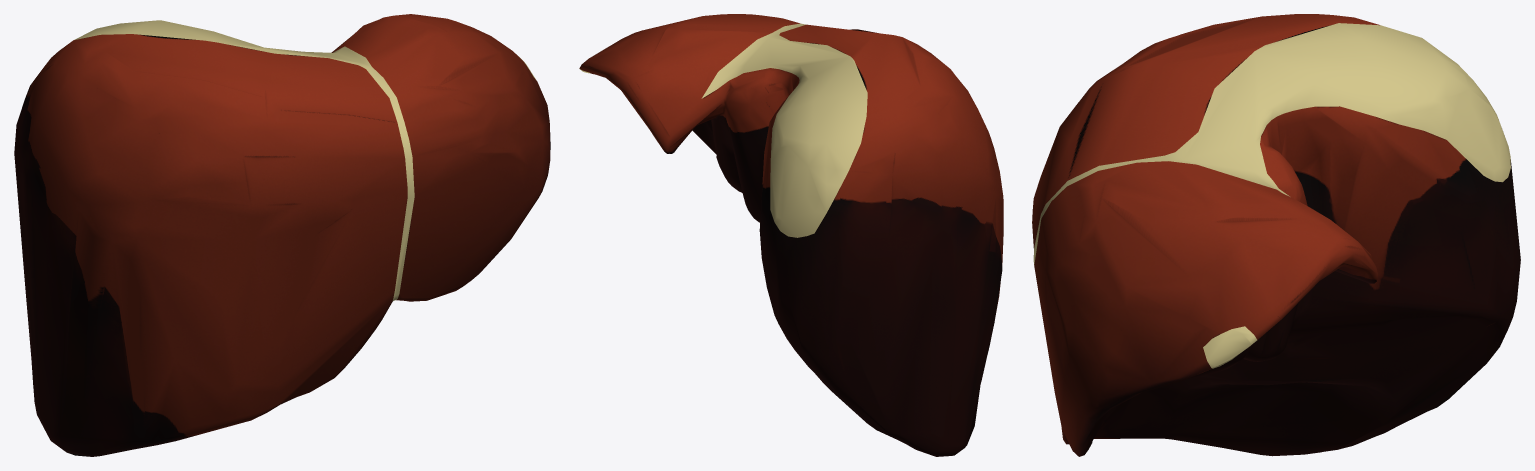
Rendered from LiverLig.gltf.
3 renders of one model, left to right at view 1: azimuth 30°, elevation 25°; view 2: azimuth 150°, elevation 25°; view 3: azimuth 270°, elevation 25°, orthographic. The views are drawn at different scales.
Parts seen in each view (by area): view 1: Liver.007; view 2: Liver.007; view 3: Liver.007.
Boxes of the visible parts, box(x1,y1,x2,y2) form: Liver.007: box(14, 14, 550, 456); Liver.007: box(579, 14, 1003, 456); Liver.007: box(1032, 14, 1520, 456).
Size of the model in its own units: 0.4063 by 0.3264 by 0.2962.
Materials: 2 (1 with a texture image).
